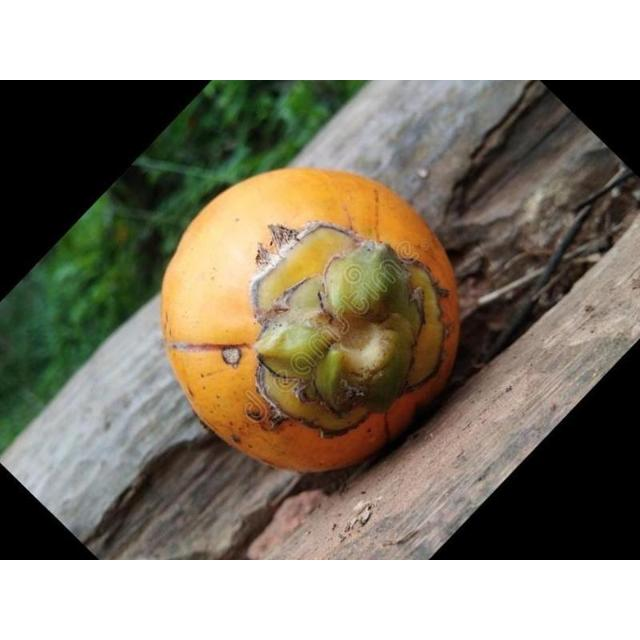good: (160, 168, 460, 476)
